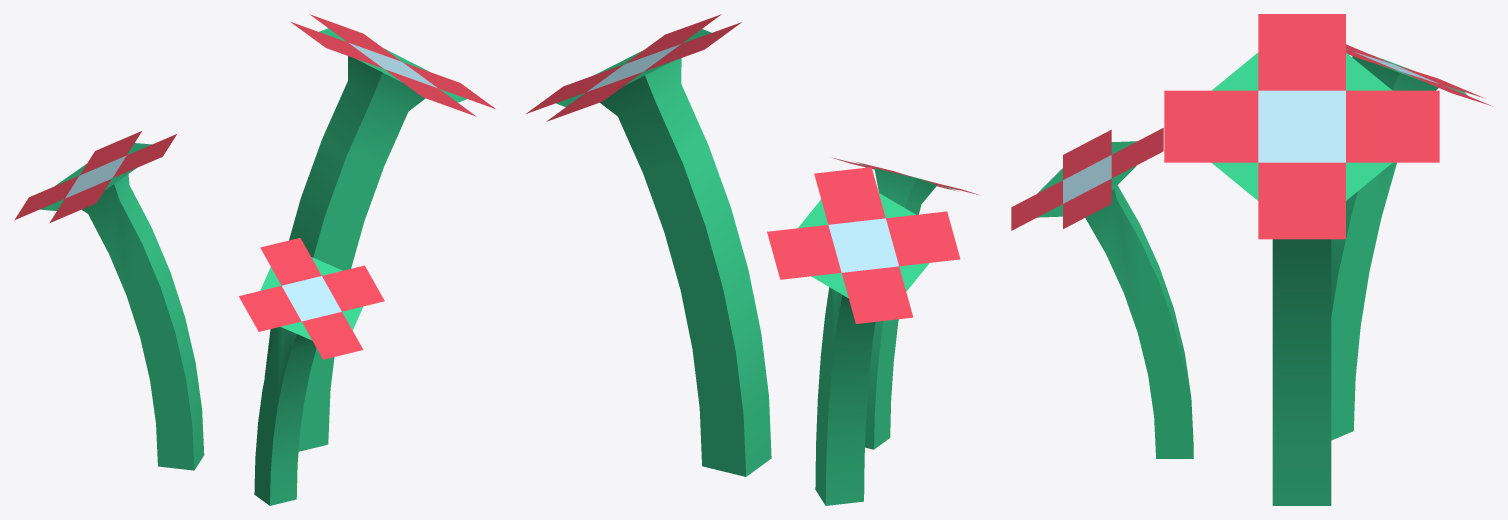
The model's file is flowers.dae.
3 renders of one model, left to right at view 1: azimuth 30°, elevation 25°; view 2: azimuth 150°, elevation 25°; view 3: azimuth 270°, elevation 25°, orthographic. The views are drawn at different scales.
Visible parts, largest first — view 1: flowers; view 2: flowers; view 3: flowers.
Boxes of the visible parts, x1=… form: flowers: x1=14, y1=14, x2=495, y2=505; flowers: x1=526, y1=14, x2=978, y2=505; flowers: x1=1011, y1=14, x2=1492, y2=505.
Bounding box in the file's own units: 0.4975 × 0.464 × 0.4168.
